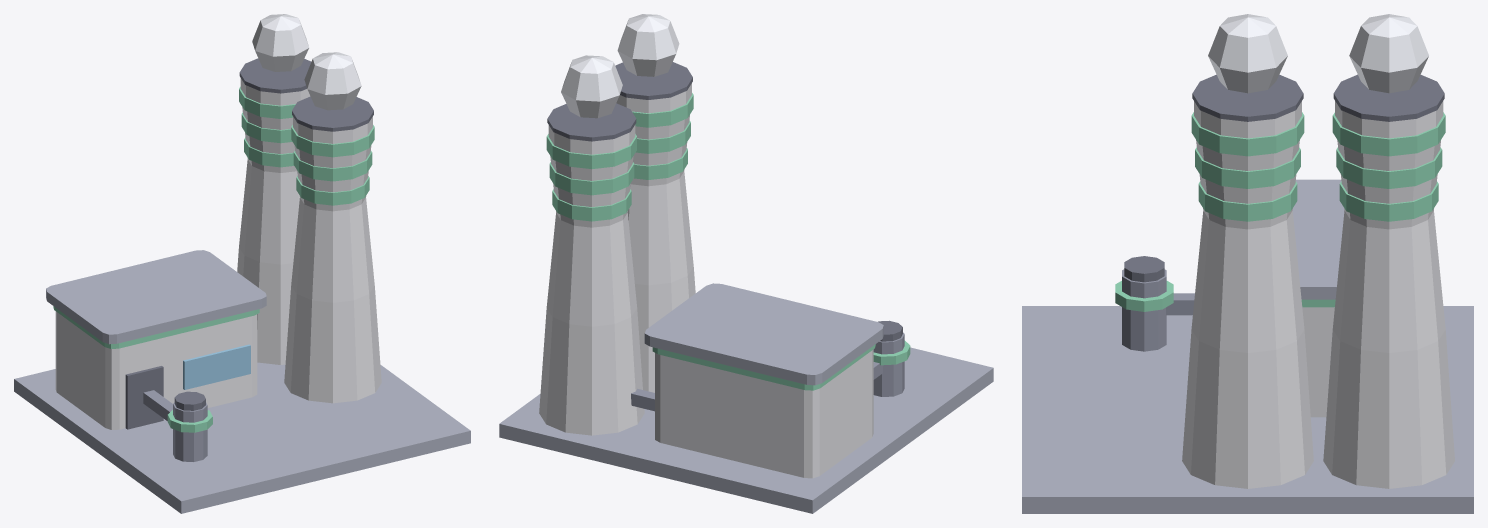
File: geothermal-1x1-t4-tone-a.glb
The picture shows the model from 3 angles, left to right: view 1: azimuth 30°, elevation 25°; view 2: azimuth 150°, elevation 25°; view 3: azimuth 270°, elevation 25°; orthographic projection. The views are drawn at different scales.
Parts seen in each view (by area): view 1: geothermal-1x1-t4-tone-a; view 2: geothermal-1x1-t4-tone-a; view 3: geothermal-1x1-t4-tone-a.
Part boxes in pixels (x1,y1,x2,y2): geothermal-1x1-t4-tone-a: [14, 14, 470, 513]; geothermal-1x1-t4-tone-a: [499, 14, 993, 513]; geothermal-1x1-t4-tone-a: [1022, 14, 1473, 513].
Bounding box in the file's own units: 0.96 × 1.08 × 0.96.
1 material, 1 textured.
